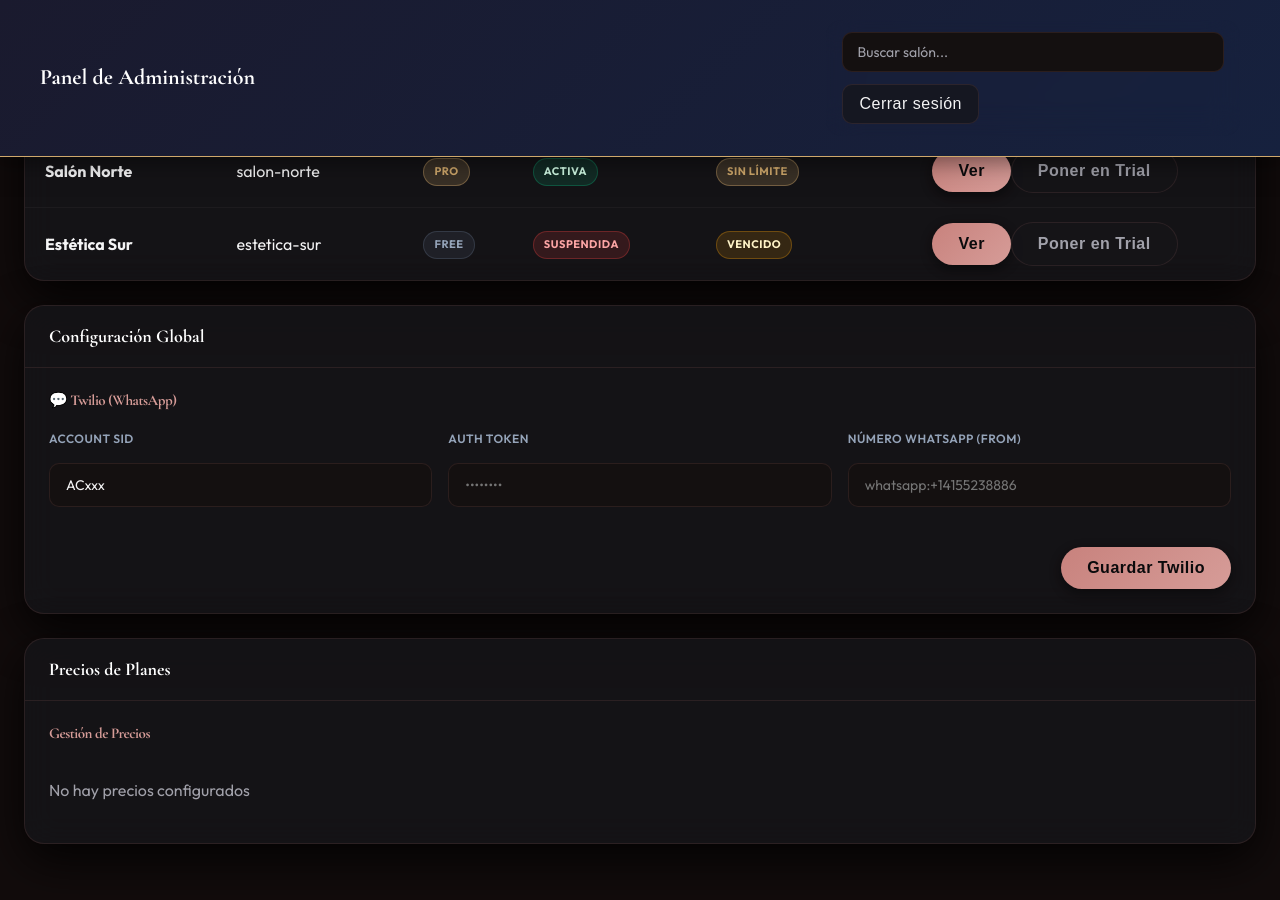
Test: AdminDashboard › saves Twilio config
(page scrolled)
Check: the heading "💬 Twilio (WhatsApp)" is shown, box [49, 391, 176, 409]
Click the button "Guardar Twilio": (1146,568) [1061, 547, 1231, 589]
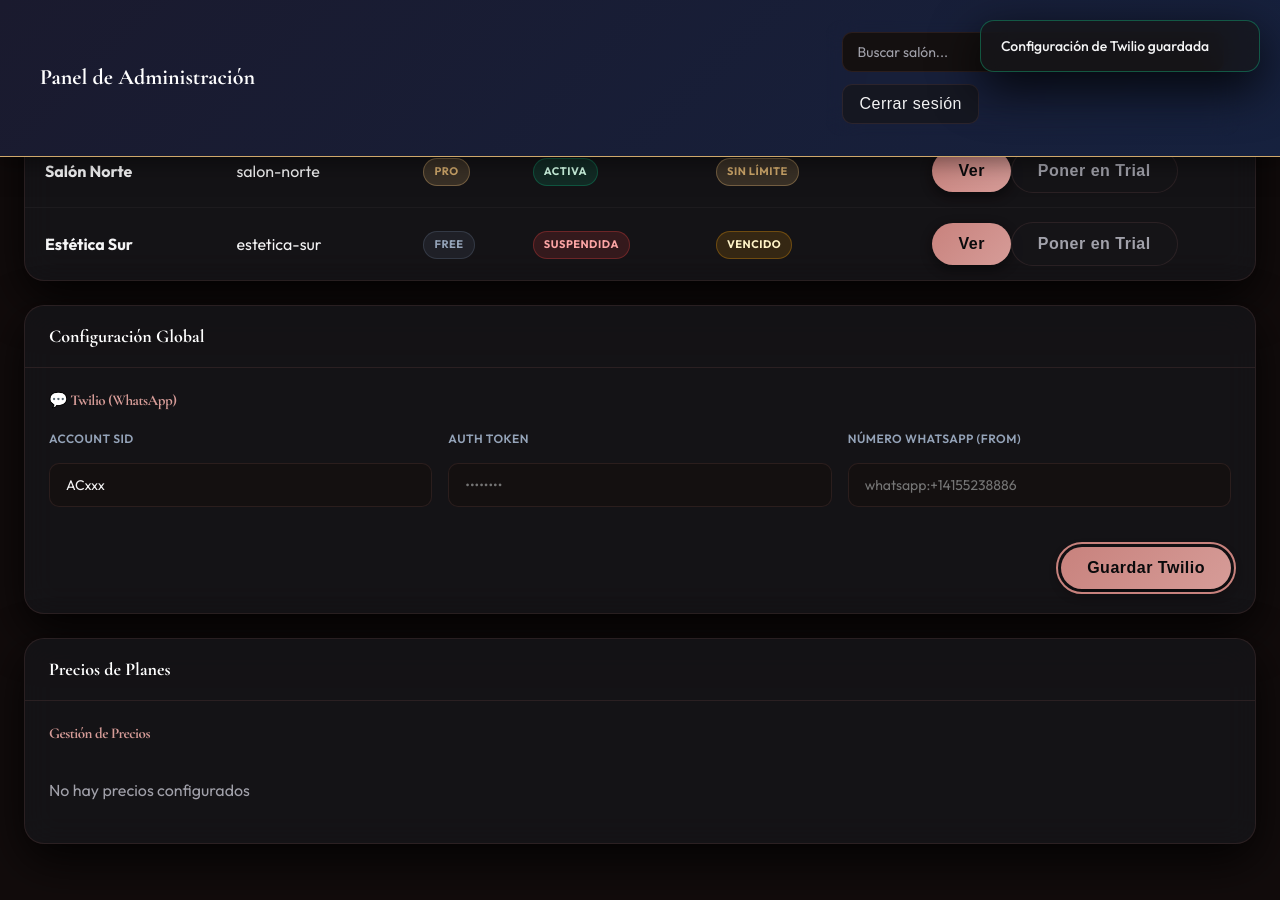
Check: the text "Configuración de Twilio guardada" is shown, box [1001, 35, 1209, 57]
